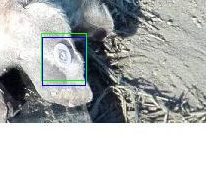text: (41, 33, 86, 80)
